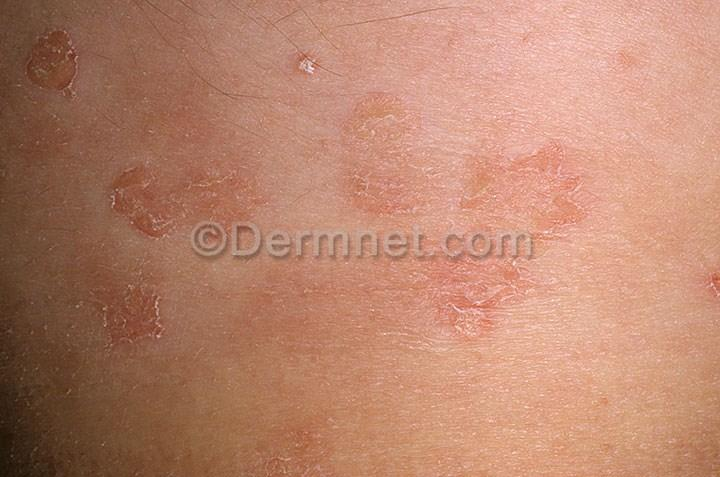Eczema: (231, 246, 390, 403), (388, 227, 536, 361), (456, 124, 598, 251), (312, 88, 442, 221), (95, 159, 266, 244), (117, 59, 255, 156), (0, 8, 109, 123), (74, 273, 198, 361), (617, 141, 719, 240), (538, 381, 626, 476), (244, 406, 350, 476), (597, 23, 650, 104), (667, 244, 720, 316), (658, 418, 720, 477), (286, 32, 335, 92), (500, 14, 548, 67)
